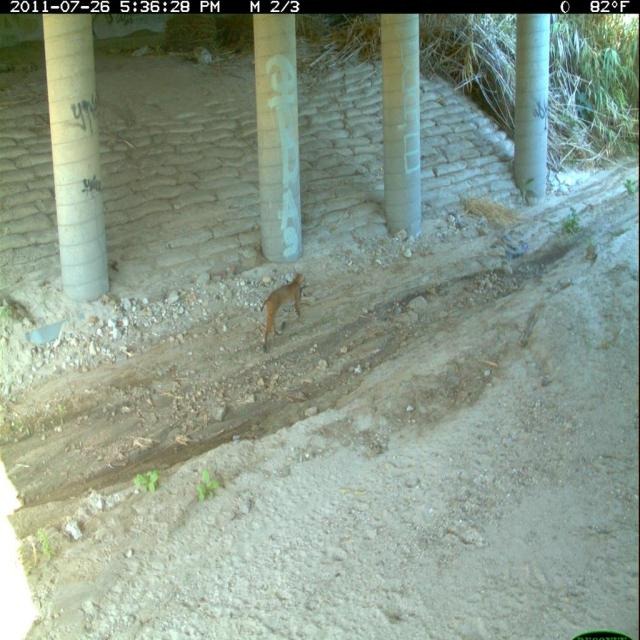bobcat: (261, 264, 310, 357)
